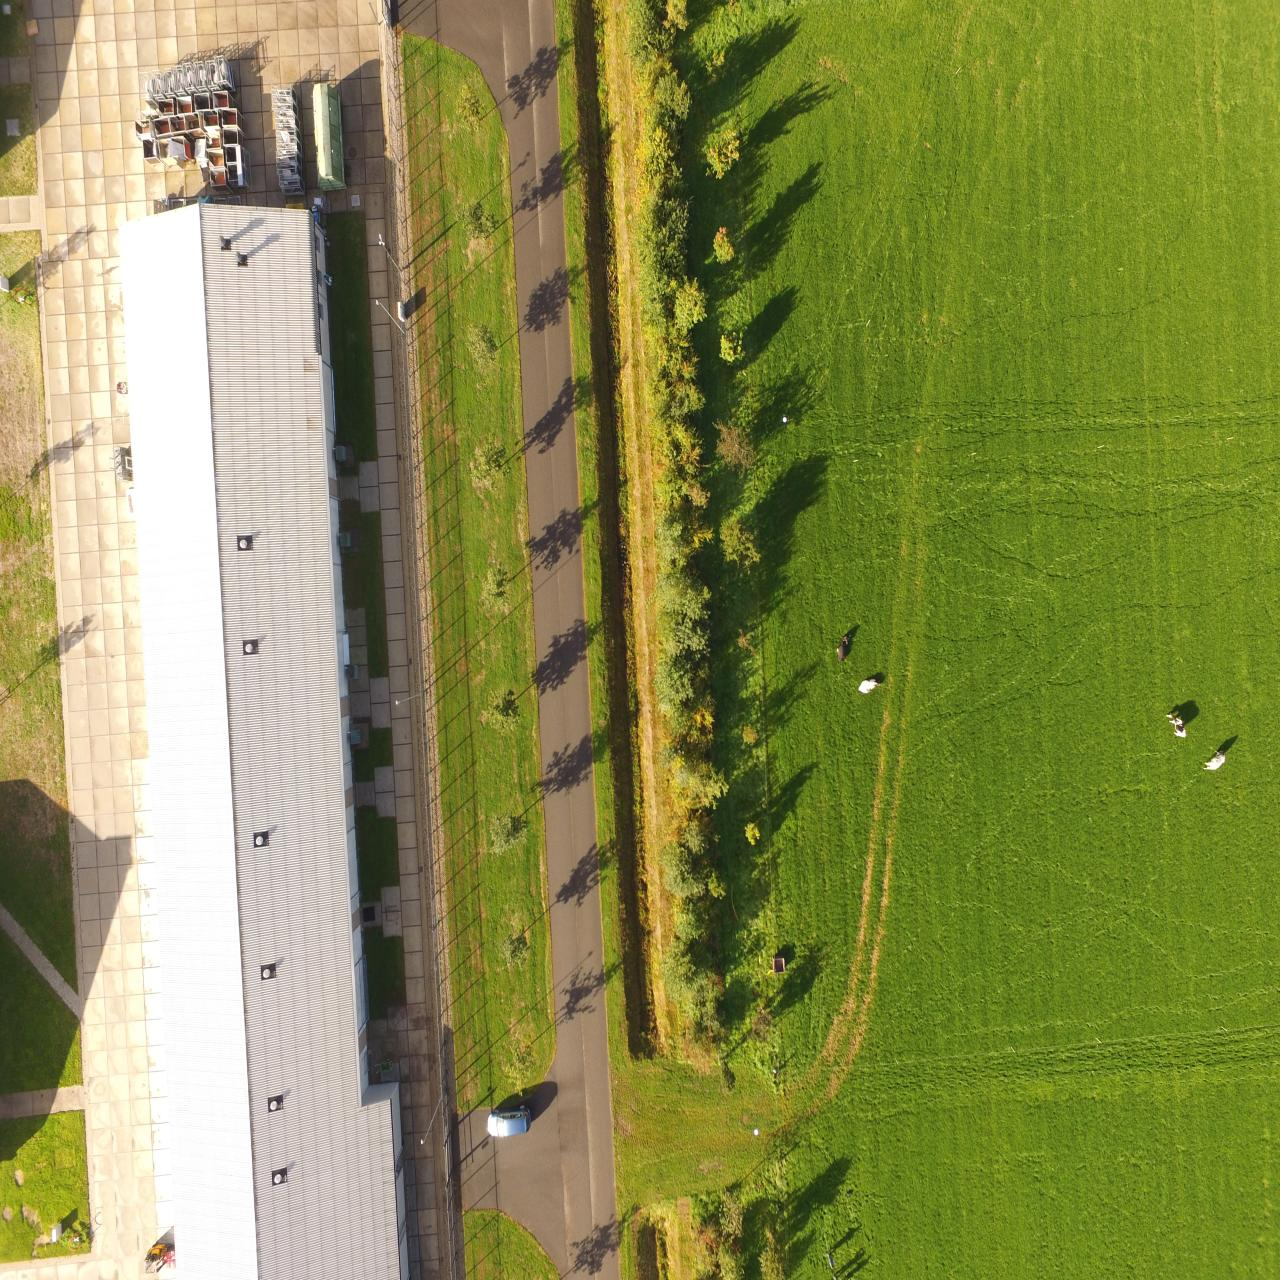cow: (1163, 709, 1189, 743), (1200, 745, 1225, 776), (833, 628, 852, 663), (857, 673, 879, 695)
